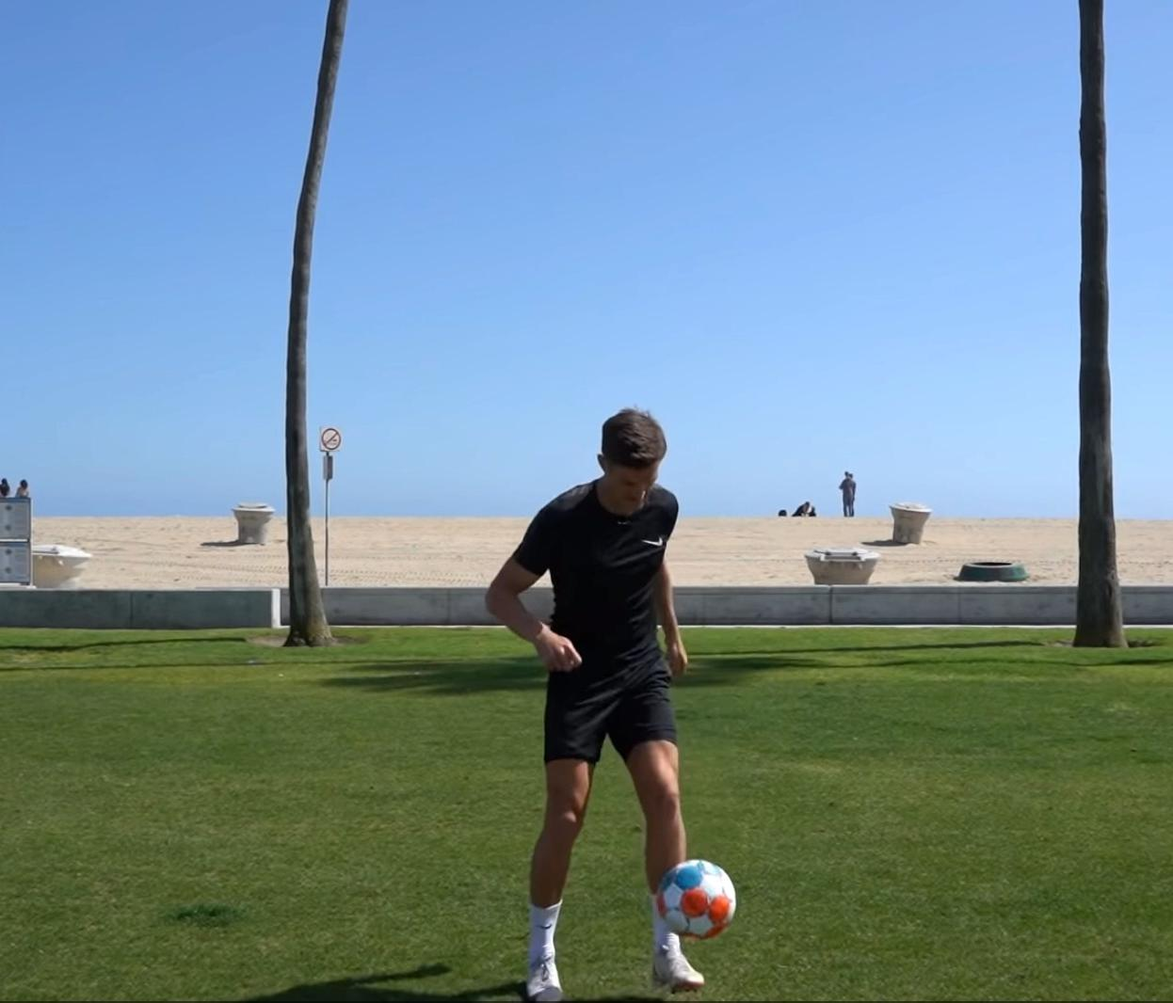ball: (657, 860, 737, 940)
foot: (646, 935, 709, 993), (517, 952, 562, 1003)
person: (480, 406, 711, 1003)
